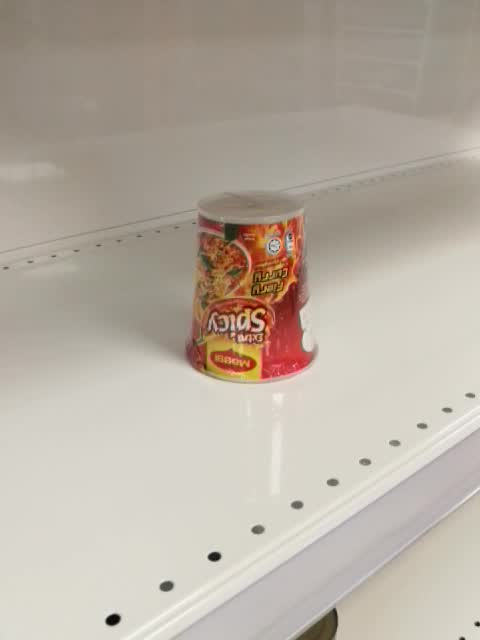maggi: (186, 188, 317, 385)
